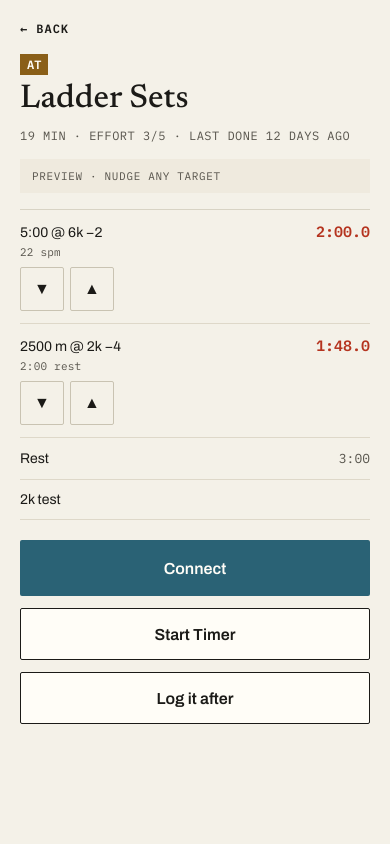
WorkoutDetail › shows an inline error and does not navigate when saving the draft fails (quota)
Click the button "Start Timer".
click(195, 634)  # box [20, 608, 370, 660]
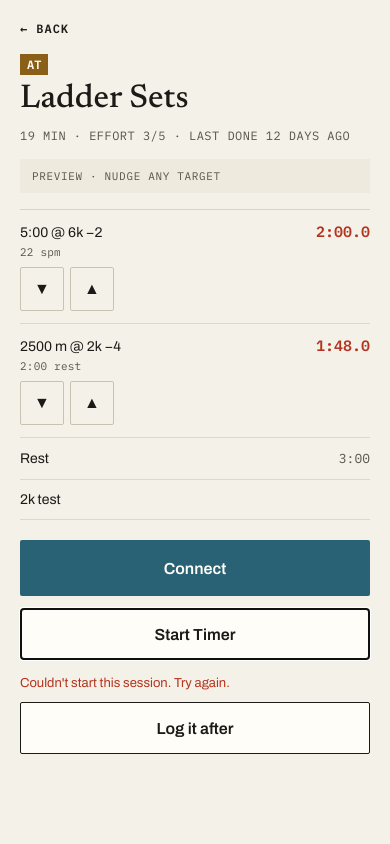
Now the text "Couldn't start this session. Try again." is shown, box [20, 676, 230, 690]
